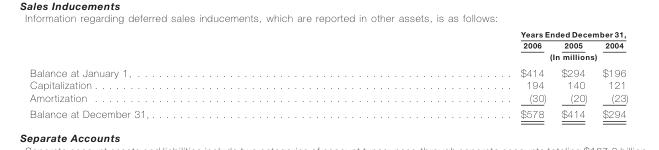table: (29, 28, 627, 119)
table column: (29, 28, 336, 119), (336, 28, 553, 119), (553, 28, 594, 119), (594, 28, 627, 119)
table column header: (29, 28, 627, 63)
table row: (29, 63, 627, 78), (29, 90, 627, 105), (29, 105, 627, 119), (29, 50, 627, 63), (29, 78, 627, 90), (29, 28, 627, 39), (29, 39, 627, 50)
table spanning cell: (336, 50, 627, 63), (336, 28, 627, 39)
